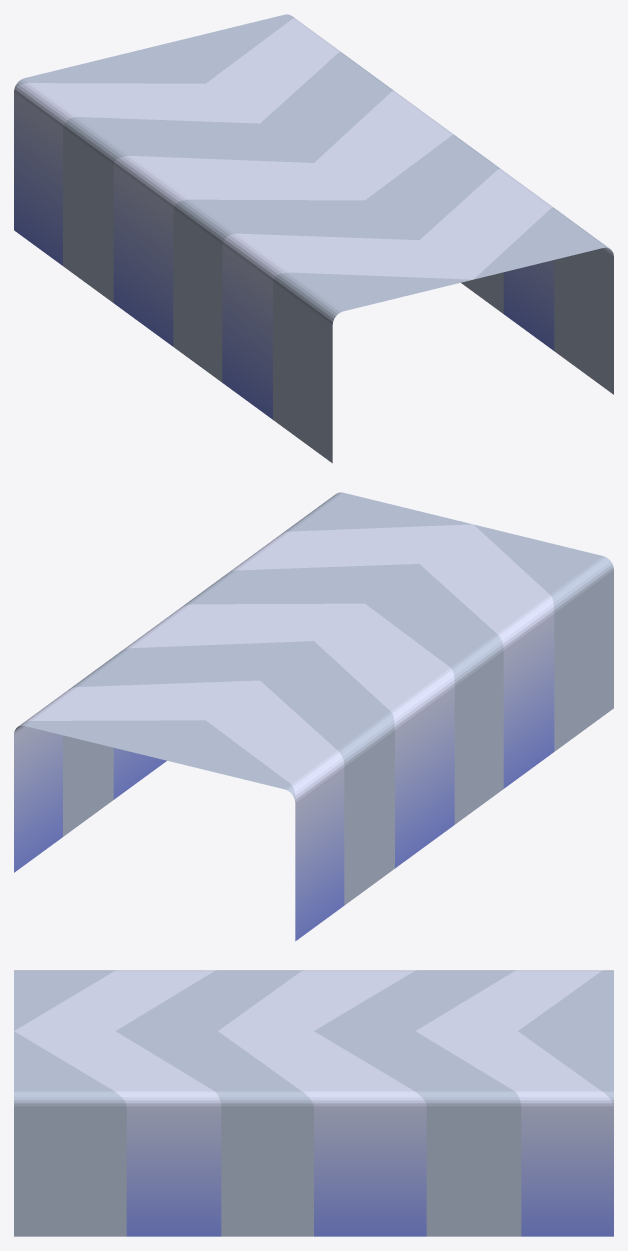
The model's file is cashierrun_platform.fbx.
3 renders of one model, top to bottom at view 1: azimuth 30°, elevation 25°; view 2: azimuth 150°, elevation 25°; view 3: azimuth 270°, elevation 25°, orthographic. The views are drawn at different scales.
Parts seen in each view (by area): view 1: cashierrun_platform; view 2: cashierrun_platform; view 3: cashierrun_platform.
Boxes of the visible parts, x1,y1,x2,y2 form: cashierrun_platform: (14, 14, 613, 463); cashierrun_platform: (14, 492, 613, 941); cashierrun_platform: (14, 970, 613, 1236).
Bounding box in the file's own units: 11.9 × 6.05 × 23.35.
